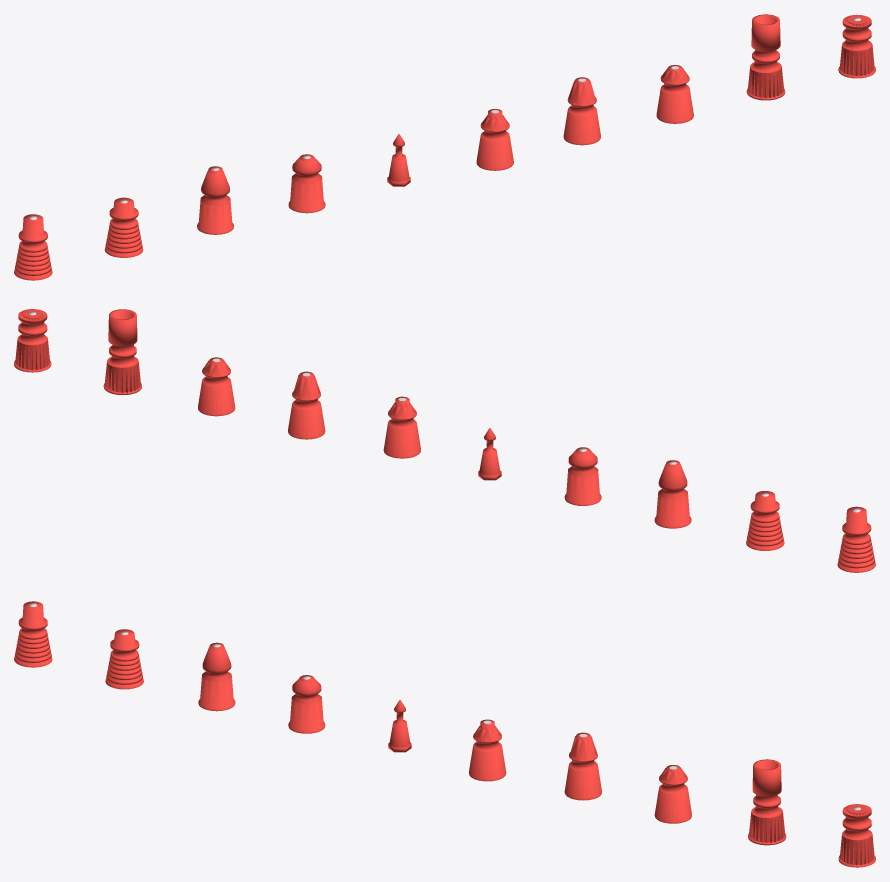
The model's file is Plastic Posts.fbx.
3 renders of one model, top to bottom at view 1: azimuth 30°, elevation 25°; view 2: azimuth 150°, elevation 25°; view 3: azimuth 330°, elevation 25°, orthographic.
Parts seen in each view (by area): view 1: Post - Plastic - Star - Double - 1 1/2", Post - Plastic - Star - 1 3/16", Post - Plastic - Star - Double - 1 1/16", Post - Plastic - Faceted - 1 3/16", Post - Plastic - Concentric Fin - 1 1/8", Post - Plastic - Concentric Fin - 1", Post - Plastic - Star - 1 1/16", Post - Plastic - Faceted - 1", Post - Plastic - Star - 1", Post - Plastic - Mini; view 2: Post - Plastic - Star - Double - 1 1/2", Post - Plastic - Star - 1 3/16", Post - Plastic - Star - Double - 1 1/16", Post - Plastic - Faceted - 1 3/16", Post - Plastic - Concentric Fin - 1 1/8", Post - Plastic - Concentric Fin - 1", Post - Plastic - Star - 1 1/16", Post - Plastic - Star - 1", Post - Plastic - Faceted - 1", Post - Plastic - Mini; view 3: Post - Plastic - Star - Double - 1 1/2", Post - Plastic - Star - 1 3/16", Post - Plastic - Star - Double - 1 1/16", Post - Plastic - Faceted - 1 3/16", Post - Plastic - Concentric Fin - 1 1/8", Post - Plastic - Concentric Fin - 1", Post - Plastic - Star - 1 1/16", Post - Plastic - Faceted - 1", Post - Plastic - Star - 1", Post - Plastic - Mini.
Part boxes in pixels (bbox=[...]): Post - Plastic - Star - Double - 1 1/2": bbox=[746, 14, 785, 100]; Post - Plastic - Star - 1 3/16": bbox=[563, 77, 600, 145]; Post - Plastic - Star - Double - 1 1/16": bbox=[838, 14, 875, 78]; Post - Plastic - Faceted - 1 3/16": bbox=[197, 166, 233, 234]; Post - Plastic - Concentric Fin - 1 1/8": bbox=[14, 214, 52, 280]; Post - Plastic - Concentric Fin - 1": bbox=[104, 197, 143, 257]; Post - Plastic - Star - 1 1/16": bbox=[476, 109, 513, 170]; Post - Plastic - Faceted - 1": bbox=[288, 154, 325, 213]; Post - Plastic - Star - 1": bbox=[656, 65, 693, 123]; Post - Plastic - Mini: bbox=[387, 134, 410, 186]; Post - Plastic - Star - Double - 1 1/2": bbox=[103, 309, 141, 394]; Post - Plastic - Star - 1 3/16": bbox=[288, 371, 325, 439]; Post - Plastic - Star - Double - 1 1/16": bbox=[14, 309, 51, 372]; Post - Plastic - Faceted - 1 3/16": bbox=[654, 460, 691, 528]; Post - Plastic - Concentric Fin - 1 1/8": bbox=[837, 506, 875, 572]; Post - Plastic - Concentric Fin - 1": bbox=[746, 491, 784, 550]; Post - Plastic - Star - 1 1/16": bbox=[383, 396, 420, 458]; Post - Plastic - Star - 1": bbox=[198, 357, 235, 416]; Post - Plastic - Faceted - 1": bbox=[564, 447, 601, 505]; Post - Plastic - Mini: bbox=[478, 428, 501, 480]; Post - Plastic - Star - Double - 1 1/2": bbox=[748, 759, 786, 845]; Post - Plastic - Star - 1 3/16": bbox=[564, 732, 601, 800]; Post - Plastic - Star - Double - 1 1/16": bbox=[838, 804, 875, 867]; Post - Plastic - Faceted - 1 3/16": bbox=[198, 642, 235, 711]; Post - Plastic - Concentric Fin - 1 1/8": bbox=[14, 601, 52, 667]; Post - Plastic - Concentric Fin - 1": bbox=[105, 629, 143, 689]; Post - Plastic - Star - 1 1/16": bbox=[469, 719, 506, 781]; Post - Plastic - Faceted - 1": bbox=[288, 675, 325, 733]; Post - Plastic - Star - 1": bbox=[654, 765, 691, 823]; Post - Plastic - Mini: bbox=[388, 700, 411, 752].
Size of the model in its own units: 47.48 by 3.81 by 2.26.
